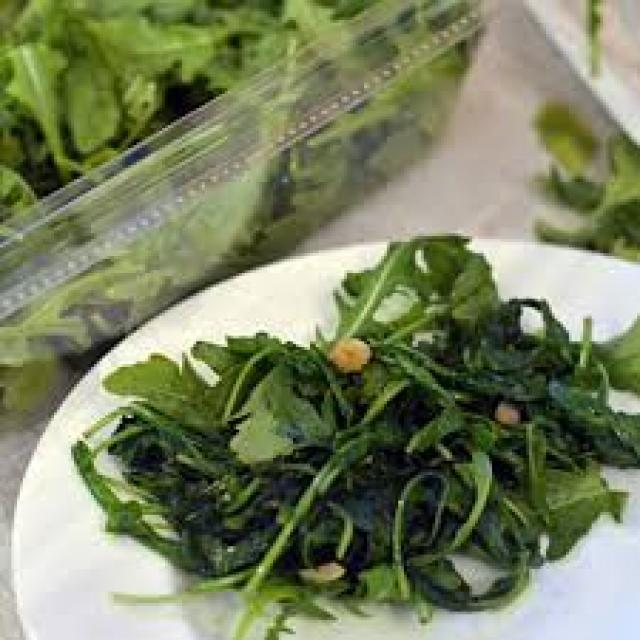organic waste: (68, 233, 637, 637), (102, 344, 412, 509), (51, 14, 339, 162), (68, 404, 290, 552), (304, 350, 424, 614), (142, 501, 339, 637), (381, 464, 529, 617), (324, 228, 495, 358), (179, 327, 356, 435), (500, 441, 626, 572), (0, 0, 68, 227), (57, 3, 142, 148), (398, 381, 521, 478), (3, 26, 77, 182), (455, 290, 566, 387), (96, 6, 248, 71), (529, 372, 637, 463), (114, 185, 205, 287), (196, 148, 288, 242), (381, 34, 472, 128), (28, 262, 165, 316), (560, 302, 638, 396), (264, 165, 350, 245), (148, 23, 233, 91), (0, 316, 60, 410), (316, 94, 432, 142), (515, 410, 563, 526), (529, 100, 600, 177), (361, 117, 441, 176), (546, 165, 617, 216), (225, 3, 344, 28), (592, 193, 637, 259), (0, 0, 358, 8), (606, 131, 637, 216), (532, 214, 603, 248), (324, 333, 378, 375), (296, 549, 347, 583), (583, 2, 600, 80), (480, 398, 518, 427)
